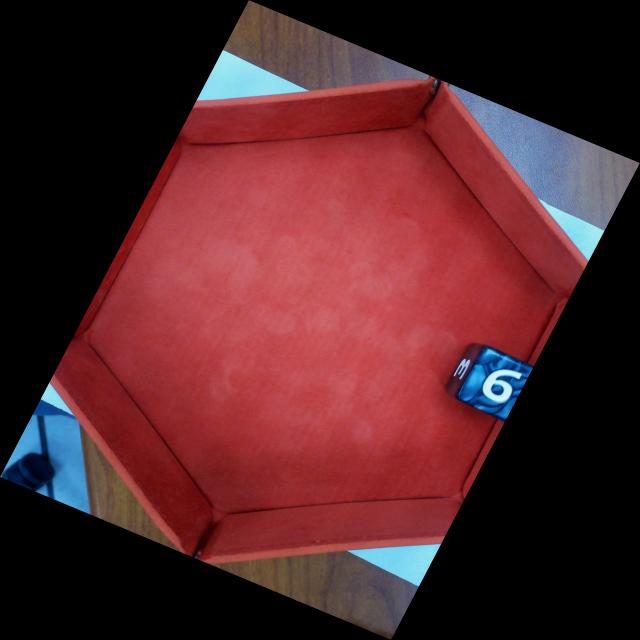dice: (456, 346, 534, 421)
